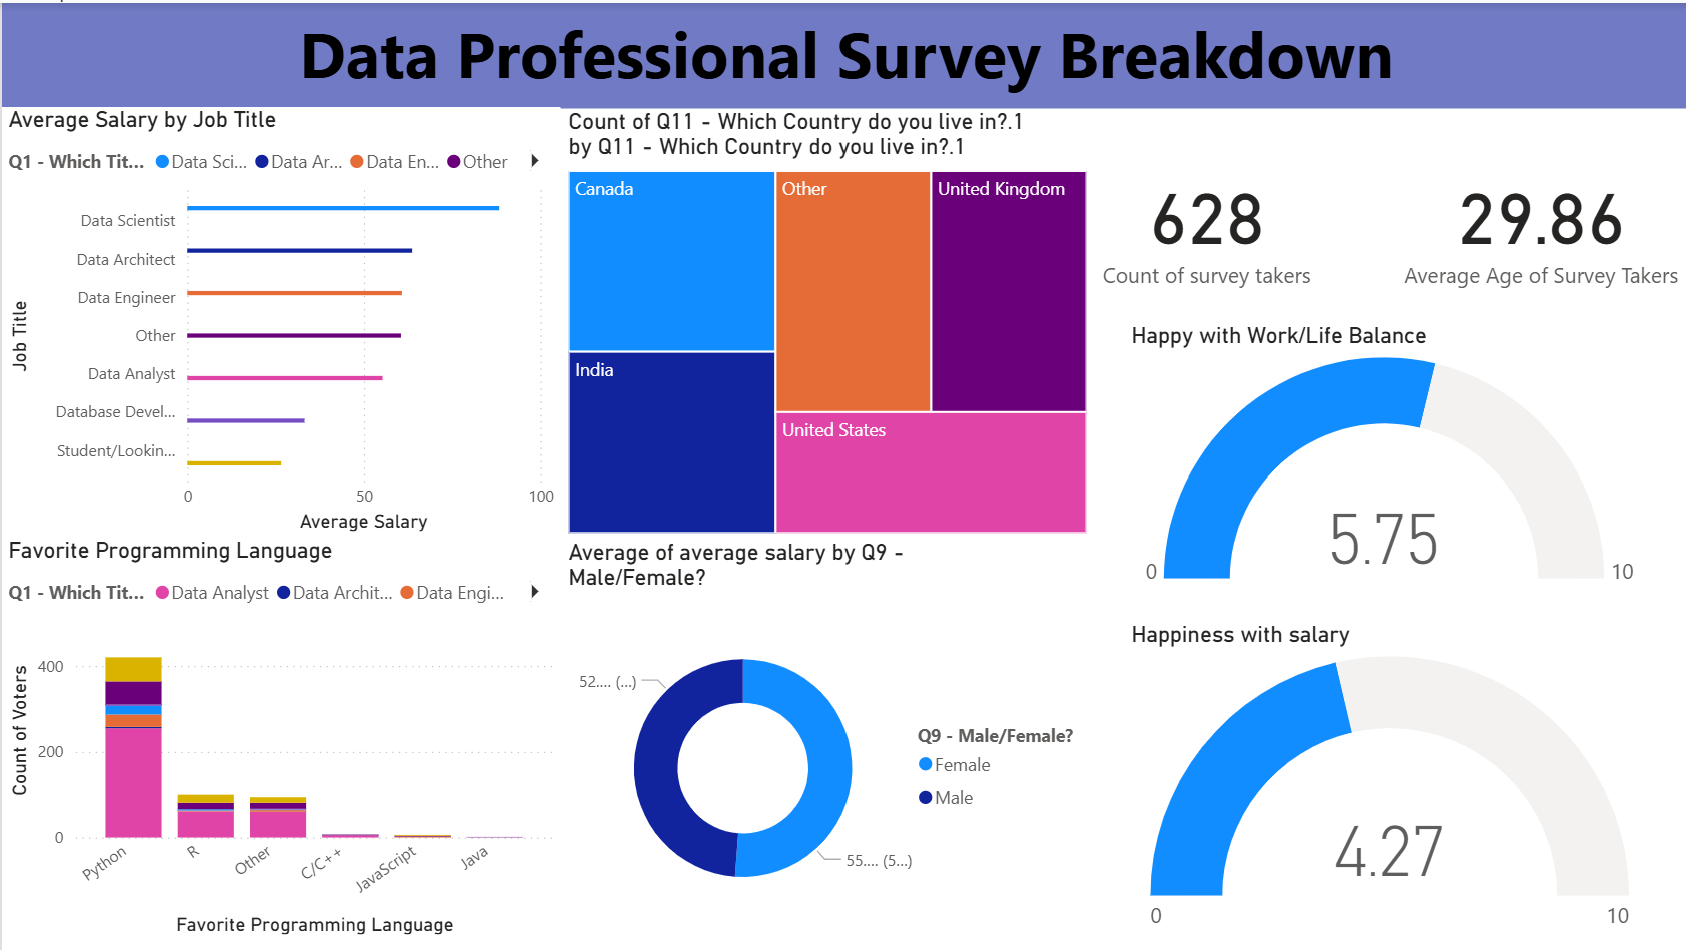

Layout of this report page (visuals, bound fields, positions):
{"tool":"powerbi","page":{"name":"Page 2","canvas":[1280,720],"ordinal":0},"visuals":[{"type":"textbox","box":[10,0,280,280],"z":0},{"type":"textbox","box":[0,0,1280,80],"z":1000},{"type":"card","fields":{"Values":["Count(Data Professional Survey.Unique ID)"]},"box":[800,80,224,174],"z":2000},{"type":"card","fields":{"Values":["Avg(Data Professional Survey.Q10 - Current Age)"]},"box":[1052,80,228,174],"z":3000},{"type":"clusteredBarChart","title":"Average Salary by Job Title","fields":{"Category":["Data Professional Survey.Q1 - Which Title Best Fits your Current Role?.1"],"Y":["Avg(Data Professional Survey.average salary)"],"Series":["Data Professional Survey.Q1 - Which Title Best Fits your Current Role?.1"]},"box":[0,79.5,423.3,326],"z":4000},{"type":"columnChart","title":"   Favorite Programming Language","fields":{"Category":["Data Professional Survey.Q5 - Favorite Programming Language.1"],"Y":["CountNonNull(Data Professional Survey.Unique ID)"],"Series":["Data Professional Survey.Q1 - Which Title Best Fits your Current Role?.1"]},"box":[0,405.5,423.3,305.5],"z":5000},{"type":"treemap","fields":{"Group":["Data Professional Survey.Q11 - Which Country do you live in?.1"],"Values":["Count(Data Professional Survey.Q11 - Which Country do you live in?.1)"]},"box":[424,80,402,326],"z":6000},{"type":"gauge","title":"Happy with Work/Life Balance","fields":{"Y":["Avg(Data Professional Survey.Q6 - How Happy are you in your Current Position with the following? (Work/Life Balance))"],"MinValue":["Min(Data Professional Survey.Q6 - How Happy are you in your Current Position with the following? (Work/Life Balance))"],"MaxValue":["Max(Data Professional Survey.Q6 - How Happy are you in your Current Position with the following? (Work/Life Balance))"]},"box":[851.5,242.4,401.5,203],"z":6001},{"type":"gauge","title":"Happiness with salary","fields":{"Y":["Avg(Data Professional Survey.Q6 - How Happy are you in your Current Position with the following? (Salary))"],"MinValue":["Min(Data Professional Survey.Q6 - How Happy are you in your Current Position with the following? (Salary))"],"MaxValue":["Max(Data Professional Survey.Q6 - How Happy are you in your Current Position with the following? (Salary))"]},"box":[851.5,468.2,401.5,243.9],"z":6002},{"type":"donutChart","fields":{"Category":["Data Professional Survey.Q9 - Male/Female?"],"Y":["Avg(Data Professional Survey.average salary)"]},"box":[424,406,402,304],"z":6003}]}

Visuals, with their boxes in screenshot pixels (x1, y1, x2, y2), scaled from the page's 1280x720 canvas onto the 1686x950 screenshot:
textbox: [13,0,382,369]
textbox: [0,0,1685,106]
card - Count(Data Professional Survey.Unique ID): [1054,106,1349,335]
card - Avg(Data Professional Survey.Q10 - Current Age): [1386,106,1685,335]
"Average Salary by Job Title" clusteredBarChart: [0,105,558,535]
"   Favorite Programming Language" columnChart: [0,535,558,938]
treemap - Data Professional Survey.Q11 - Which Country do you live in?.1 x Count(Data Professional Survey.Q11 - Which Country do you live in?.1): [558,106,1088,536]
"Happy with Work/Life Balance" gauge: [1122,320,1650,588]
"Happiness with salary" gauge: [1122,618,1650,940]
donutChart - Data Professional Survey.Q9 - Male/Female? x Avg(Data Professional Survey.average salary): [558,536,1088,937]
